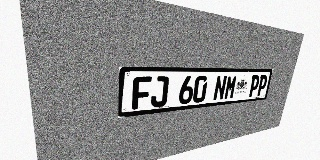0: (192, 76, 208, 103)
6: (178, 76, 195, 105)
F: (132, 76, 152, 110)
J: (150, 76, 169, 108)
M: (224, 75, 238, 100)
N: (213, 75, 227, 101)
P: (248, 75, 260, 97), (256, 75, 268, 96)
